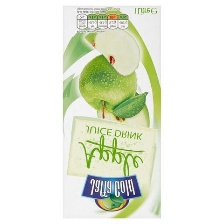carton: (57, 1, 172, 219)
